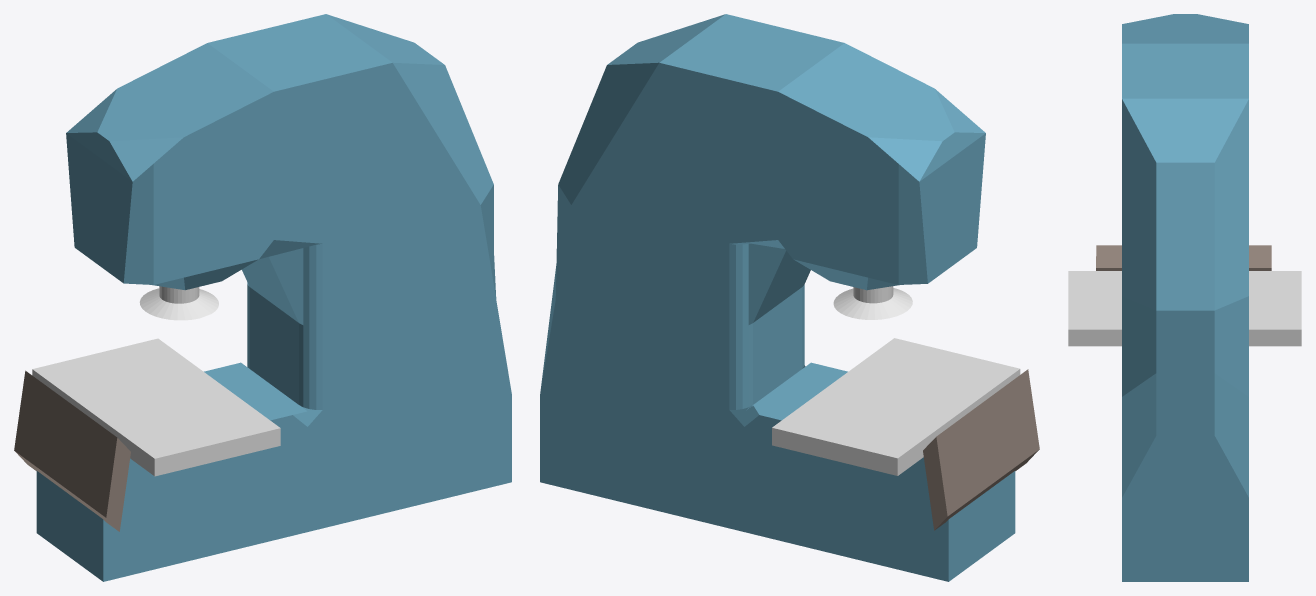
The model's file is FREZpro.fbx.
3 views of the same model, side by side, from view 1: azimuth 30°, elevation 25°; view 2: azimuth 150°, elevation 25°; view 3: azimuth 270°, elevation 25° (orthographic). The views are drawn at different scales.
Visible parts, largest first — view 1: Cube, Cube.002, Cube.001, Cylinder; view 2: Cube, Cube.002, Cube.001, Cylinder; view 3: Cube, Cube.002, Cube.001.
Part boxes in pixels (bbox=[...]): Cube: bbox=[36, 14, 511, 581]; Cube.002: bbox=[32, 338, 280, 476]; Cube.001: bbox=[14, 370, 130, 531]; Cylinder: bbox=[139, 286, 218, 320]; Cube: bbox=[540, 14, 1015, 581]; Cube.002: bbox=[772, 338, 1020, 475]; Cube.001: bbox=[923, 369, 1039, 530]; Cylinder: bbox=[833, 286, 912, 319]; Cube: bbox=[1122, 14, 1248, 581]; Cube.002: bbox=[1068, 271, 1301, 346]; Cube.001: bbox=[1096, 245, 1271, 270].
Bounding box in the file's own units: 727 × 743 × 368.
